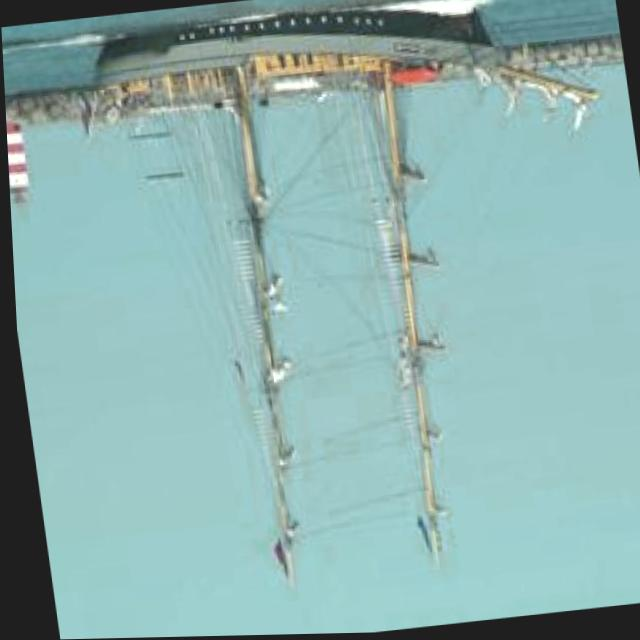ship2: (93, 5, 598, 587)
